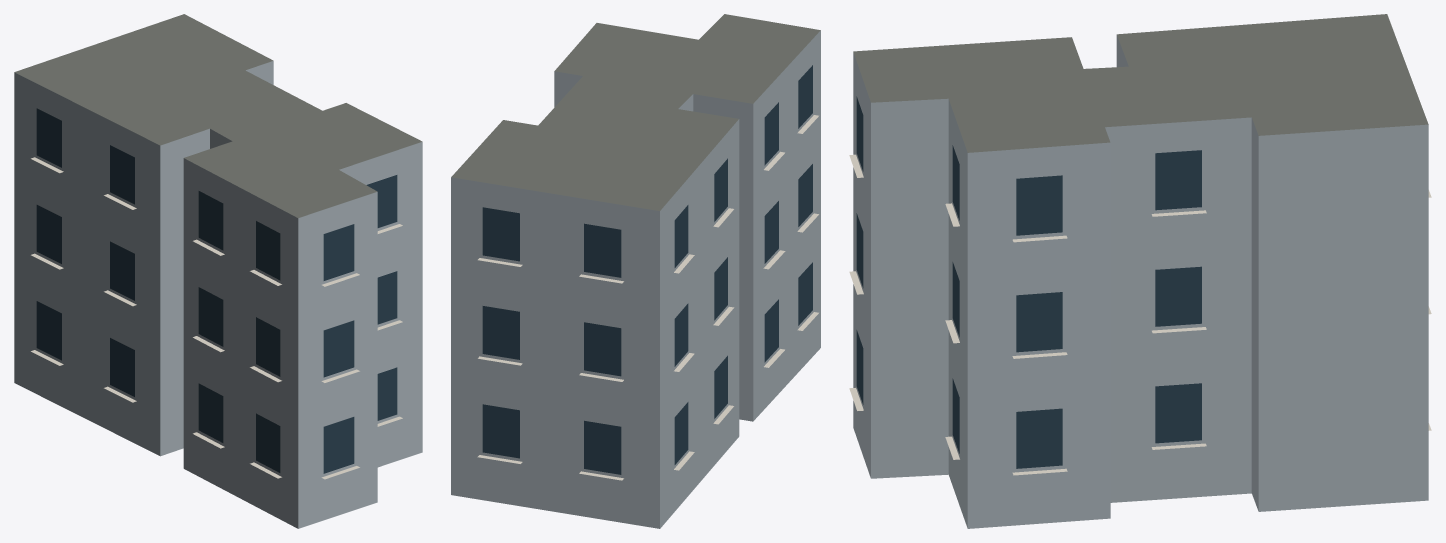
3 renders of one model, left to right at view 1: azimuth 30°, elevation 25°; view 2: azimuth 150°, elevation 25°; view 3: azimuth 270°, elevation 25°, orthographic. The views are drawn at different scales.
Parts seen in each view (by area): view 1: Footprint 0, Inferred window bays, Window sills; view 2: Footprint 0, Inferred window bays, Window sills; view 3: Footprint 0, Inferred window bays, Window sills.
Part boxes in pixels (x1,y1,x2,y2): Footprint 0: (14,14,422,528); Inferred window bays: (36,108,397,473); Window sills: (31,157,402,479); Footprint 0: (451,14,820,528); Inferred window bays: (482,65,812,474); Window sills: (477,115,818,480); Footprint 0: (853,14,1428,528); Inferred window bays: (856,96,1201,468); Window sills: (849,154,1431,475).
Bounding box in the file's own units: 8.7 × 10.88 × 15.28.
